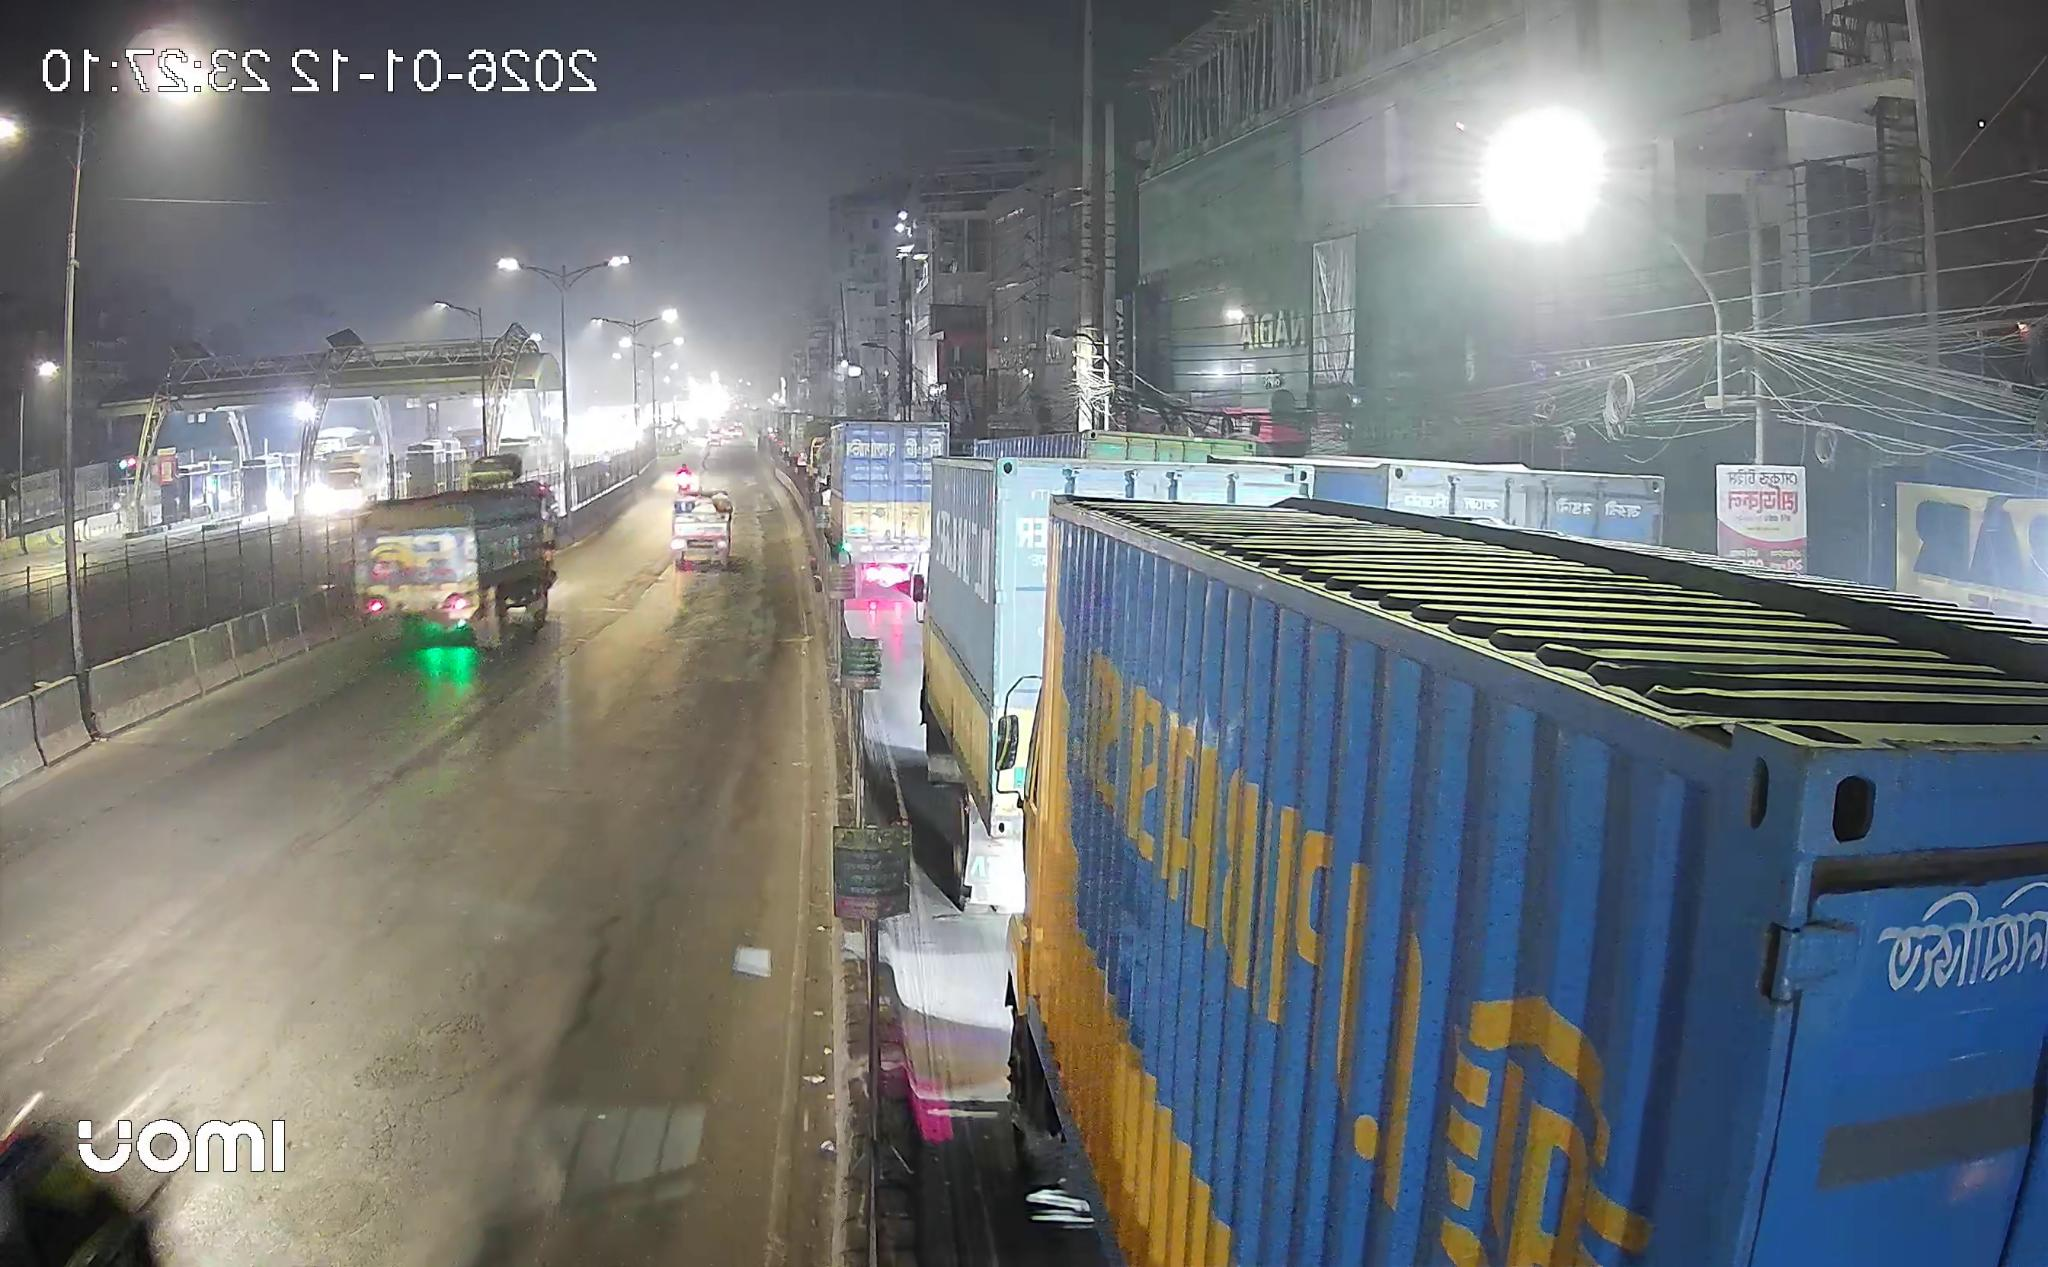Truck: (1008, 495, 2048, 1267), (913, 456, 1314, 911), (357, 484, 557, 647), (827, 420, 949, 598), (671, 484, 733, 572)
